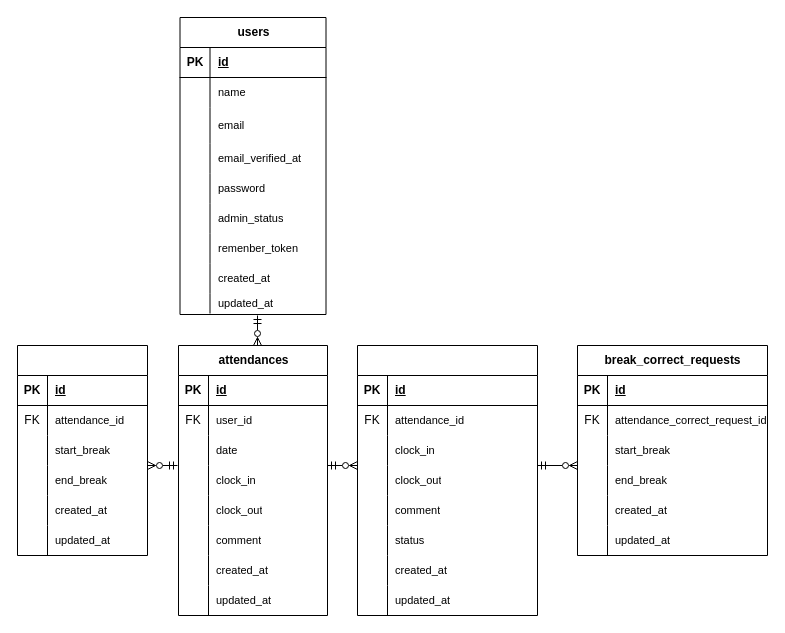
The diagram is 785 pixels wide and 633 high, and some of its shapes have lost their labels. Each missing label, with the box of its shape:
attendance_correct_requests: (356, 344, 538, 616)
breaks: (16, 344, 148, 556)
